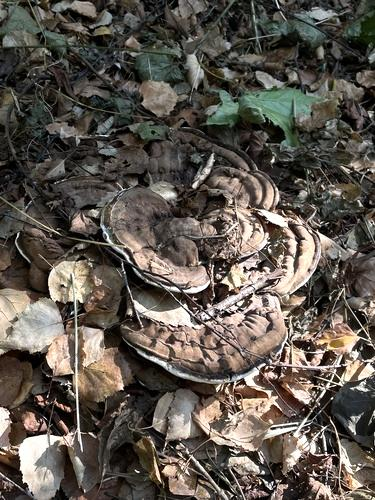Ganoderma - Fruit Body: (127, 296, 288, 387), (99, 184, 210, 293), (227, 205, 328, 286), (219, 156, 287, 200)
